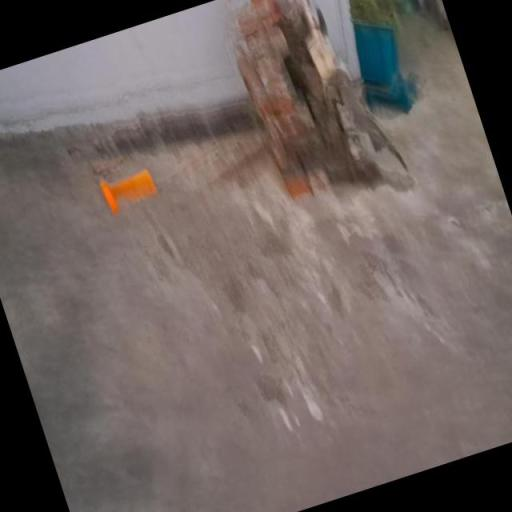mallet: (98, 164, 162, 217)
